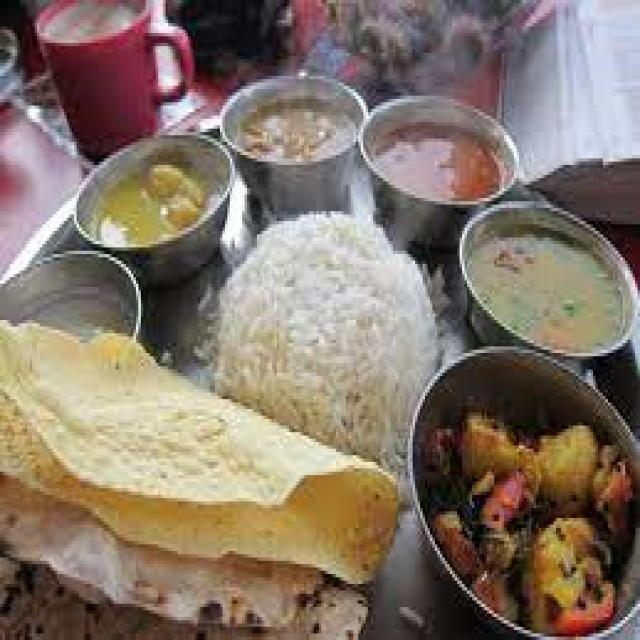dal: (459, 208, 629, 365)
rice: (217, 207, 433, 451)
sambar-rasam: (370, 100, 512, 210), (230, 80, 355, 177)
sweet: (369, 102, 515, 208)
